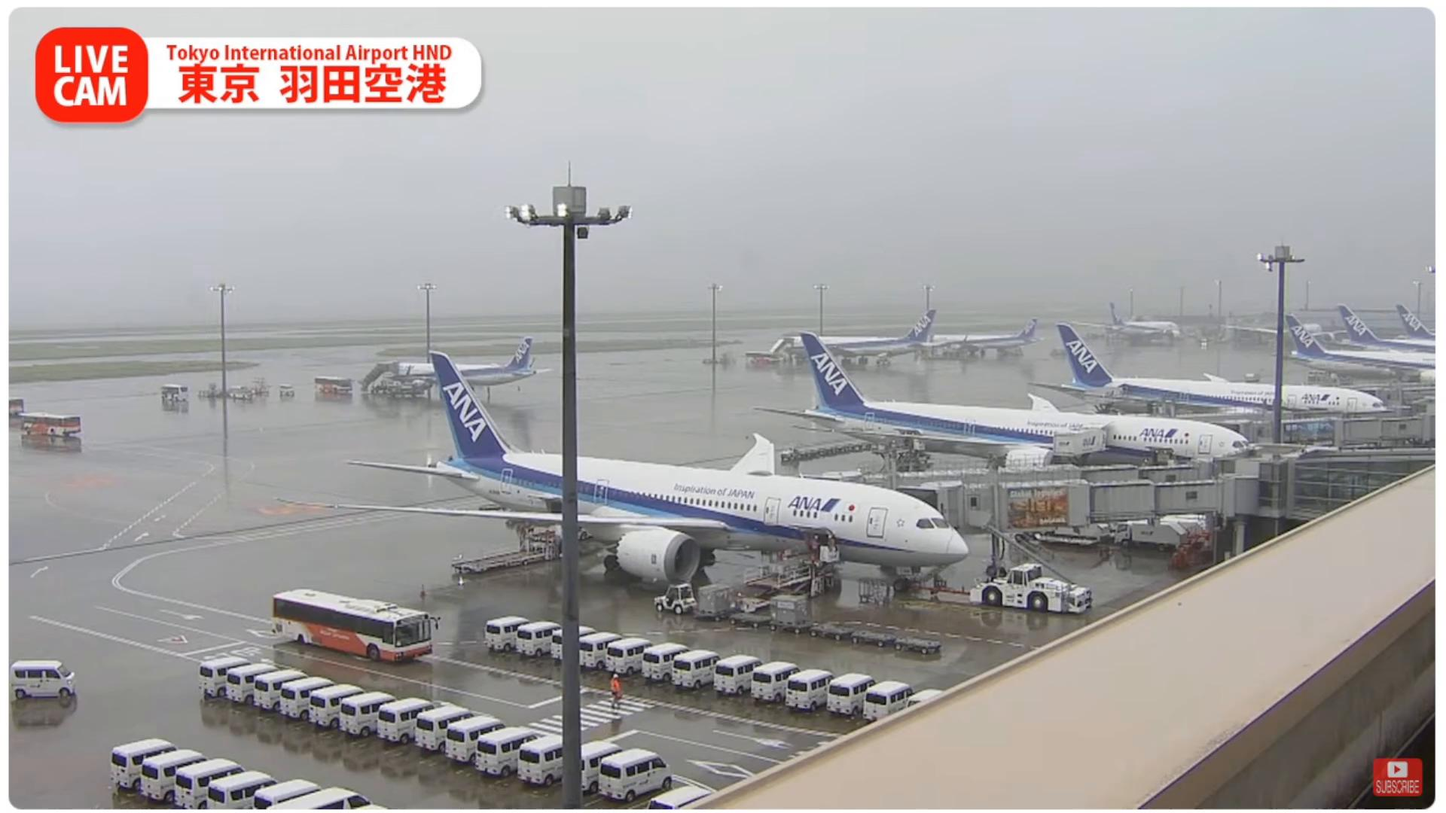APS: (968, 562, 1094, 614)
Aerobridge: (892, 474, 1261, 535), (796, 455, 1210, 487)
Airplane: (270, 351, 970, 592)
Dolly: (694, 601, 942, 655)
JCPL: (447, 522, 563, 573), (736, 553, 838, 609)
Tractor: (655, 583, 695, 616)
Window: (1292, 458, 1433, 516)
